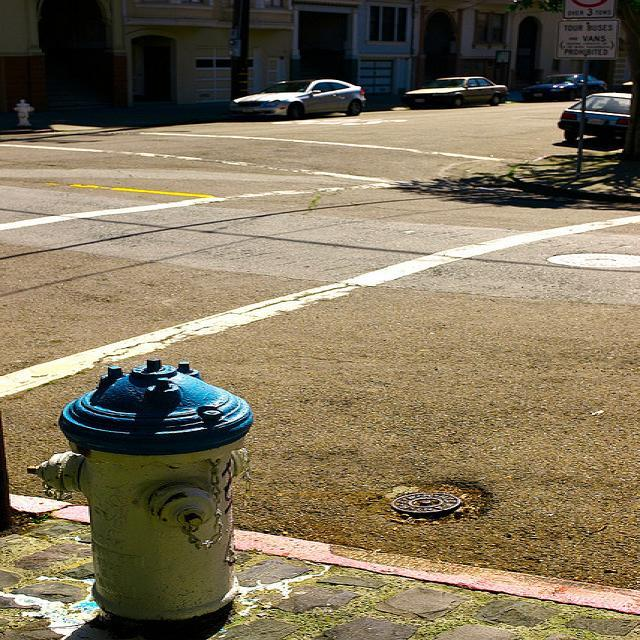fire_hydrant: (28, 359, 250, 630), (13, 99, 33, 126)
